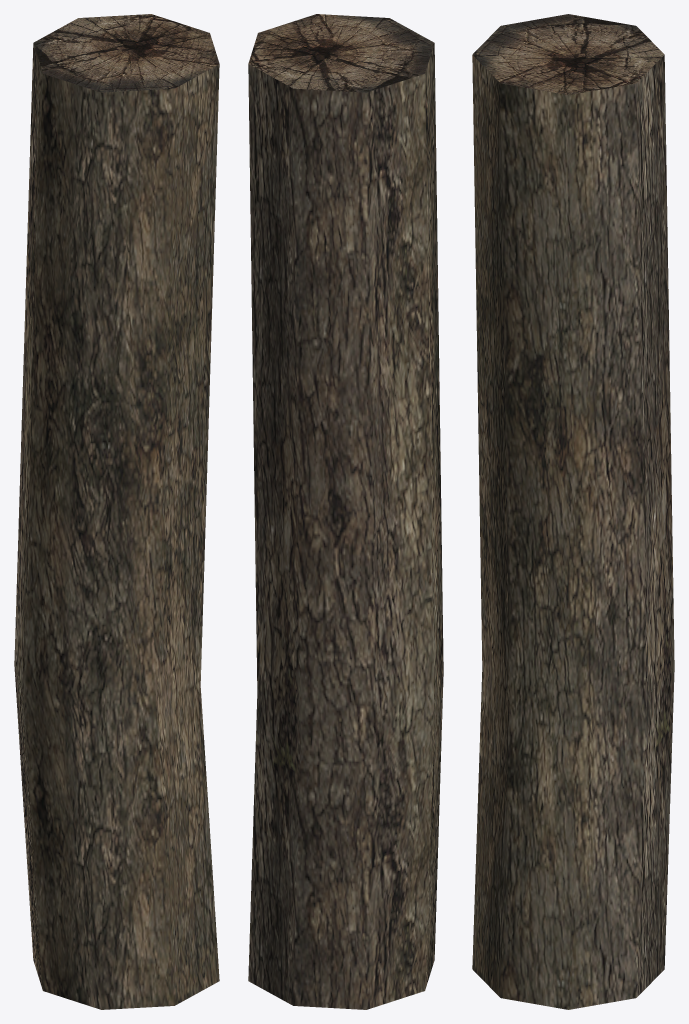
The model's file is woodenPost01.FBX.
The picture shows the model from 3 angles, left to right: view 1: azimuth 30°, elevation 25°; view 2: azimuth 150°, elevation 25°; view 3: azimuth 270°, elevation 25°; orthographic projection.
Visible parts, largest first — view 1: wooden_fence_pole3; view 2: wooden_fence_pole3; view 3: wooden_fence_pole3.
Part boxes in pixels (left/top/right/bottom): wooden_fence_pole3: left=14, top=14, right=219, bottom=1009; wooden_fence_pole3: left=248, top=14, right=443, bottom=1009; wooden_fence_pole3: left=472, top=14, right=674, bottom=1009.
Size of the model in its own units: 30.99 by 150 by 30.08.
